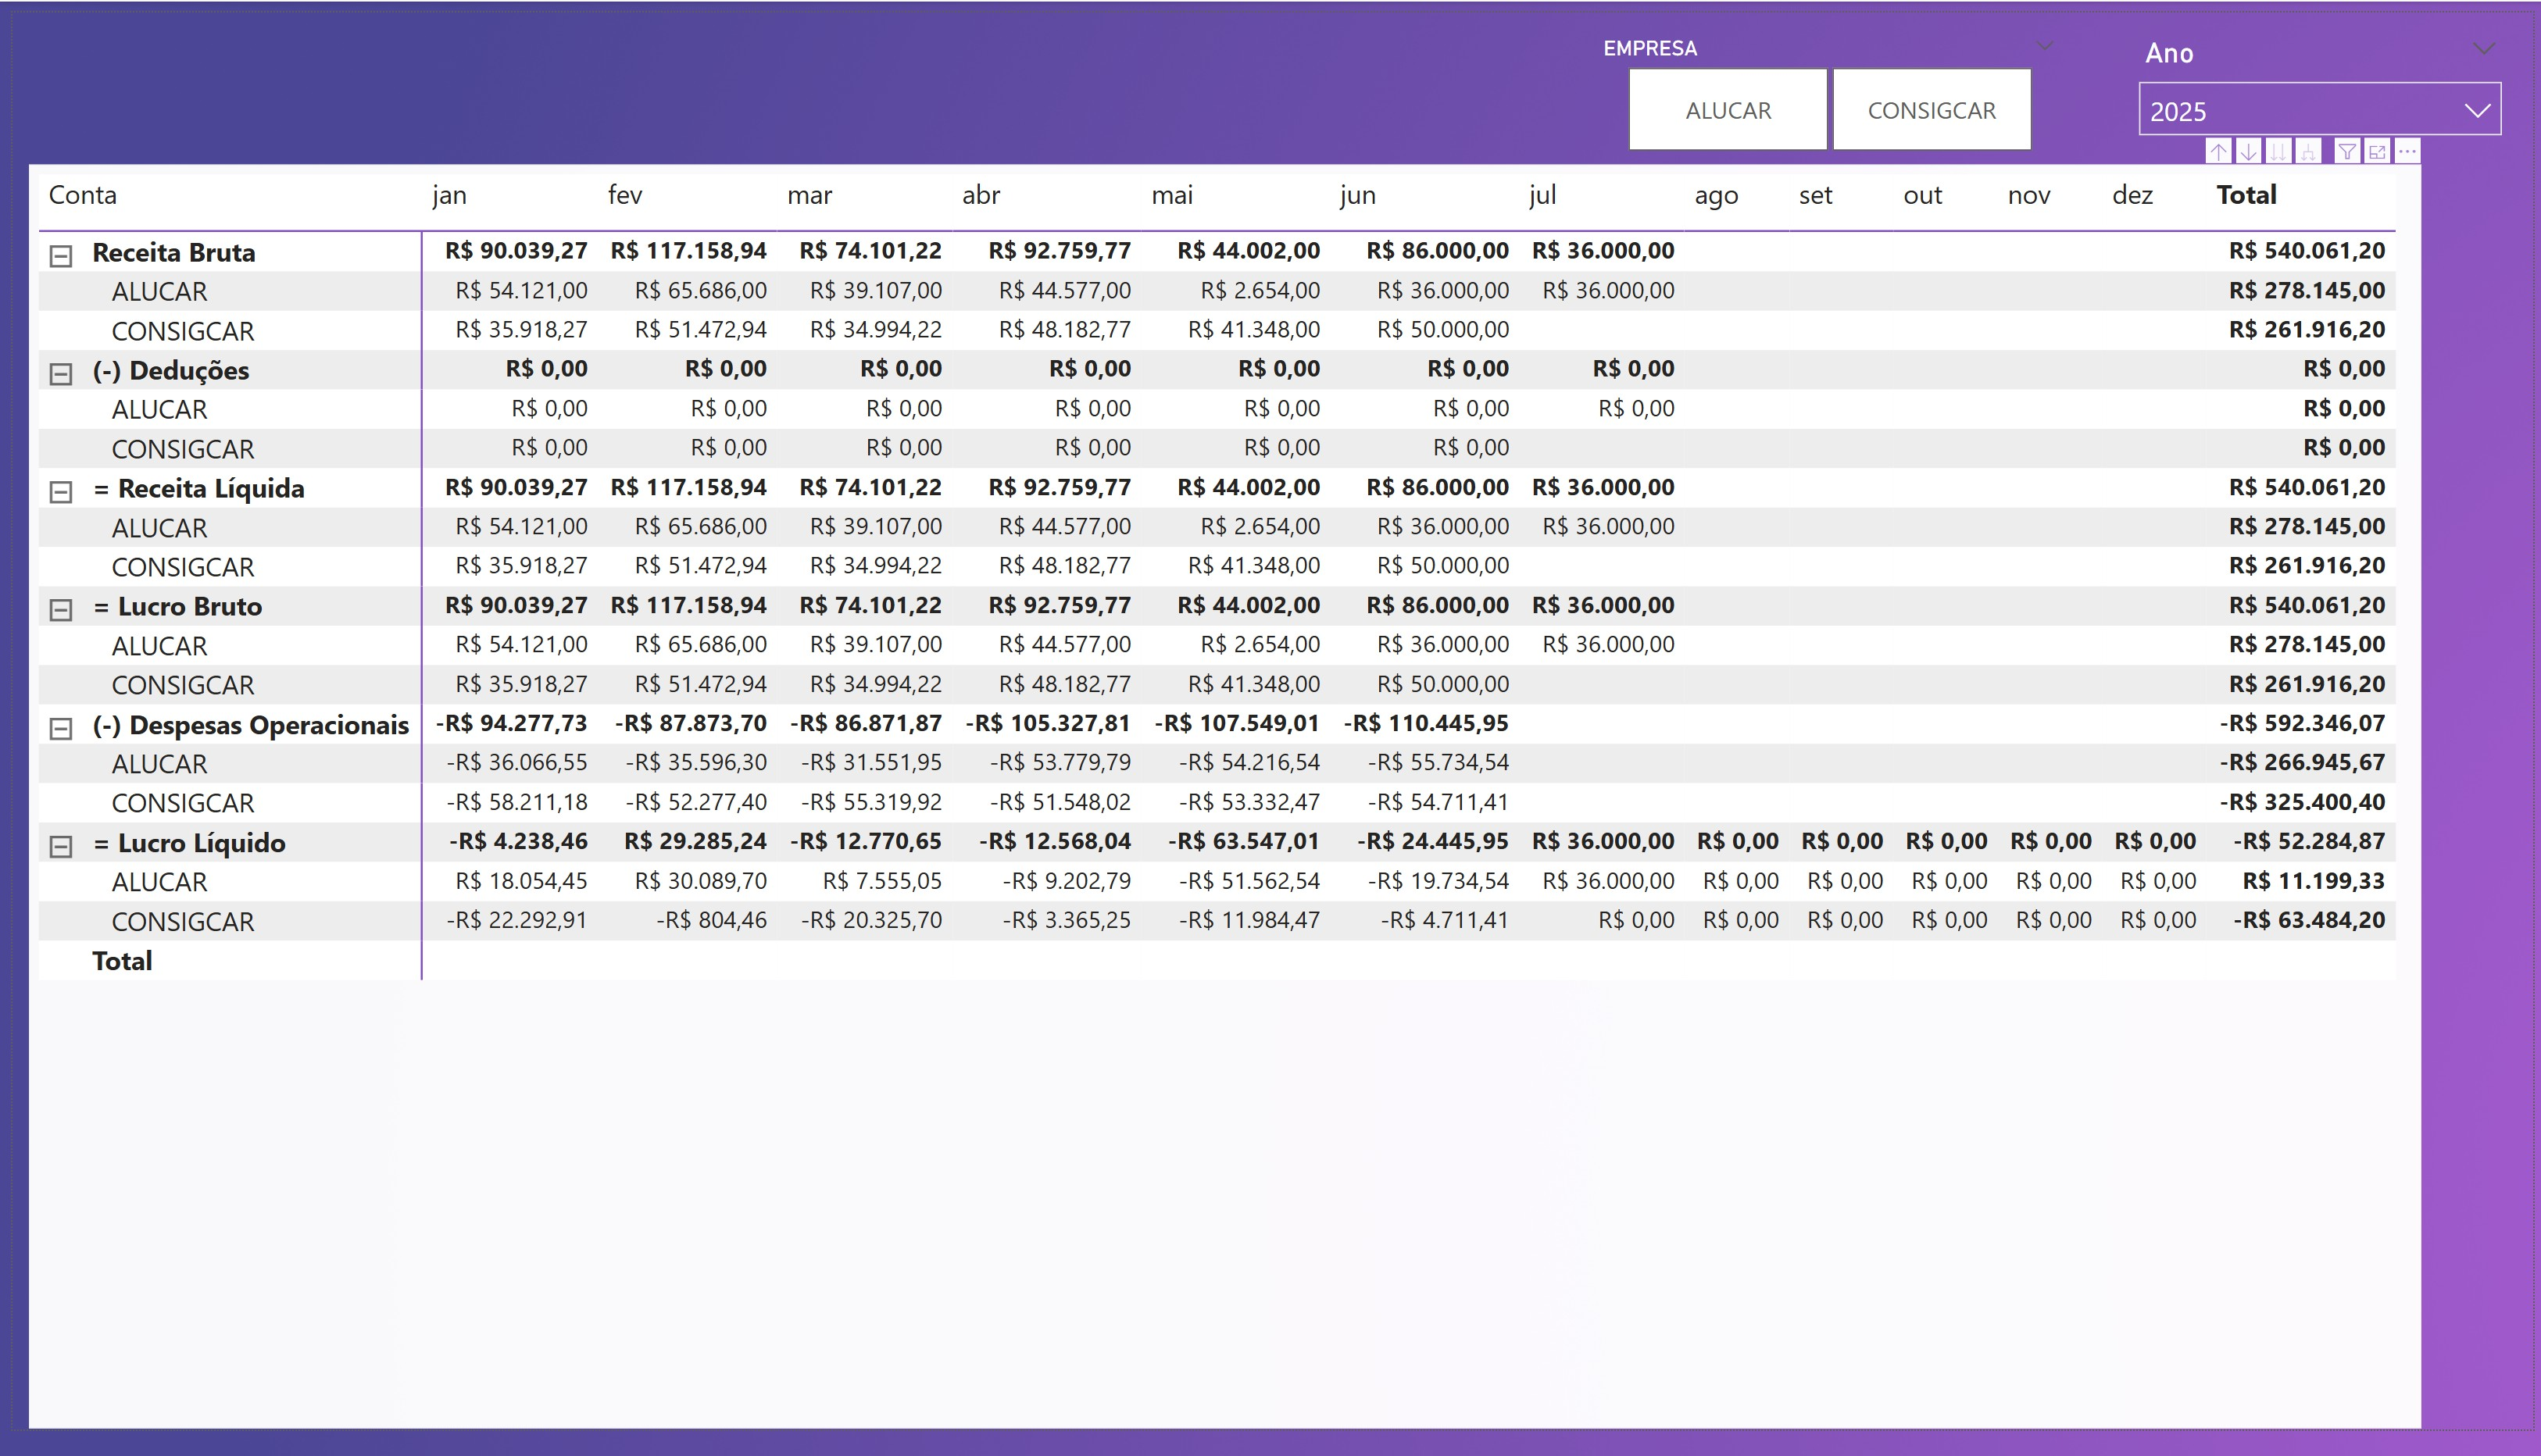

Layout of this report page (visuals, bound fields, positions):
{"tool":"powerbi","page":{"name":"DRE","canvas":[1280,720],"ordinal":4},"visuals":[{"type":"pivotTable","fields":{"Rows":["TabelaDRE.Conta","empresas.EMPRESA"],"Values":["_medidas.ValorDRE"],"Columns":["dCalendario.Mes texto"]},"box":[8.3,77.2,1215,642.2],"z":0},{"type":"slicer","fields":{"Values":["dCalendario.Ano"]},"box":[1069.8,6.7,204.4,70.4],"z":1000},{"type":"slicer","fields":{"Values":["empresas.EMPRESA"]},"box":[795,6.7,254.7,70.4],"z":2000}]}

Visuals, with their boxes in screenshot pixels (x1, y1, x2, y2), scaled from the page's 1280x720 canvas onto the 2541x1456 screenshot:
pivotTable - TabelaDRE.Conta x empresas.EMPRESA: crop(16, 156, 2428, 1454)
slicer - dCalendario.Ano: crop(2124, 13, 2529, 156)
slicer - empresas.EMPRESA: crop(1578, 13, 2084, 156)
